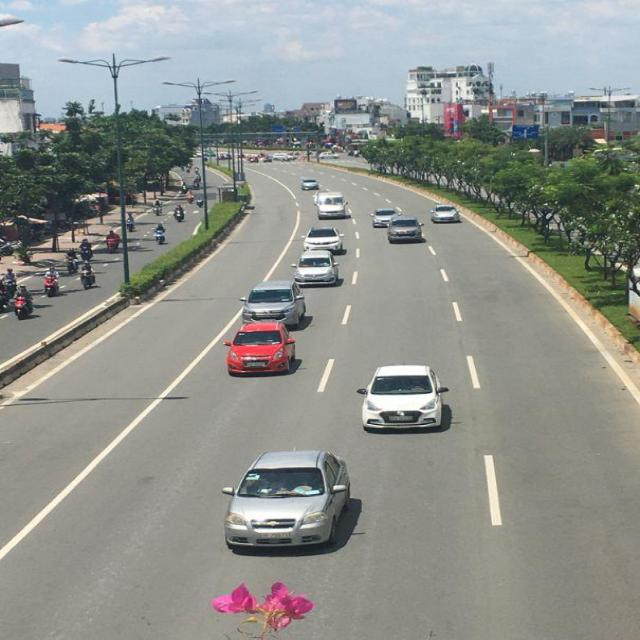car: (217, 448, 361, 554), (358, 366, 452, 434), (225, 322, 298, 376), (244, 281, 310, 333), (295, 251, 341, 288), (302, 226, 343, 254), (388, 215, 423, 244), (315, 192, 346, 220), (431, 205, 461, 223), (374, 210, 399, 228), (302, 180, 320, 192)
motorcycle: (15, 294, 36, 318)
